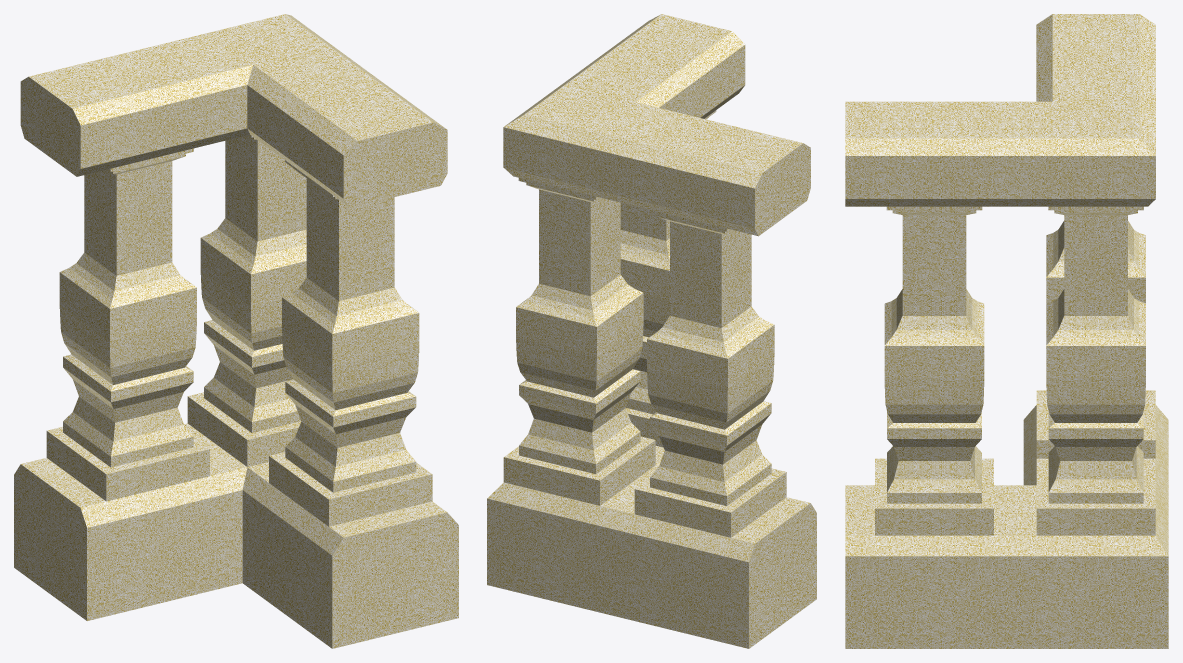
Rendered from sweethome3d-contributions-balustrade-corner-371.glb.
3 renders of one model, left to right at view 1: azimuth 30°, elevation 25°; view 2: azimuth 150°, elevation 25°; view 3: azimuth 270°, elevation 25°, orthographic. The views are drawn at different scales.
Parts seen in each view (by area): view 1: 1_1, 2_2, 8_8, 6_6, 3_3; view 2: 1_1, 2_2, 3_3, 8_8, 6_6; view 3: 1_1, 2_2, 6_6, 3_3, 8_8, 5_5, 4_4.
Part boxes in pixels (bbox=[...]): 1_1: bbox=[14, 392, 458, 648]; 2_2: bbox=[20, 14, 447, 207]; 8_8: bbox=[59, 153, 196, 467]; 6_6: bbox=[282, 168, 419, 492]; 3_3: bbox=[200, 135, 306, 432]; 1_1: bbox=[487, 408, 816, 648]; 2_2: bbox=[503, 14, 810, 236]; 3_3: bbox=[516, 183, 643, 473]; 8_8: bbox=[647, 215, 774, 505]; 6_6: bbox=[620, 117, 708, 414]; 1_1: bbox=[845, 390, 1168, 648]; 2_2: bbox=[845, 14, 1155, 206]; 6_6: bbox=[884, 210, 984, 503]; 3_3: bbox=[1046, 210, 1145, 503]; 8_8: bbox=[1046, 221, 1145, 303]; 5_5: bbox=[886, 206, 982, 210]; 4_4: bbox=[1048, 206, 1143, 210].
Size of the model in its own units: 54.4 by 92.5 by 54.4.
Materials: 1 (1 with a texture image).
